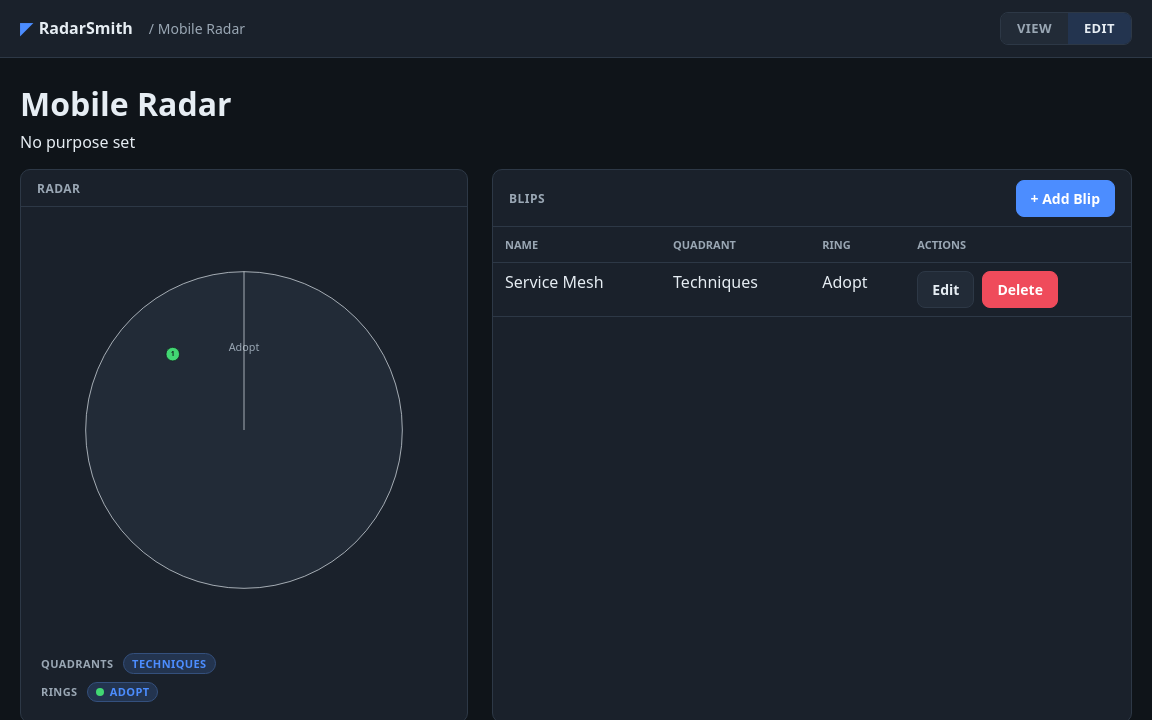
RadarWorkspace › preserves selection when resizing from wide to narrow
The image size is (1152, 720).
expect the cell "Service Mesh" is shown: met, box 493,262 -> 661,316
Click the button "Service Mesh": (554, 282) 505,270 -> 604,292
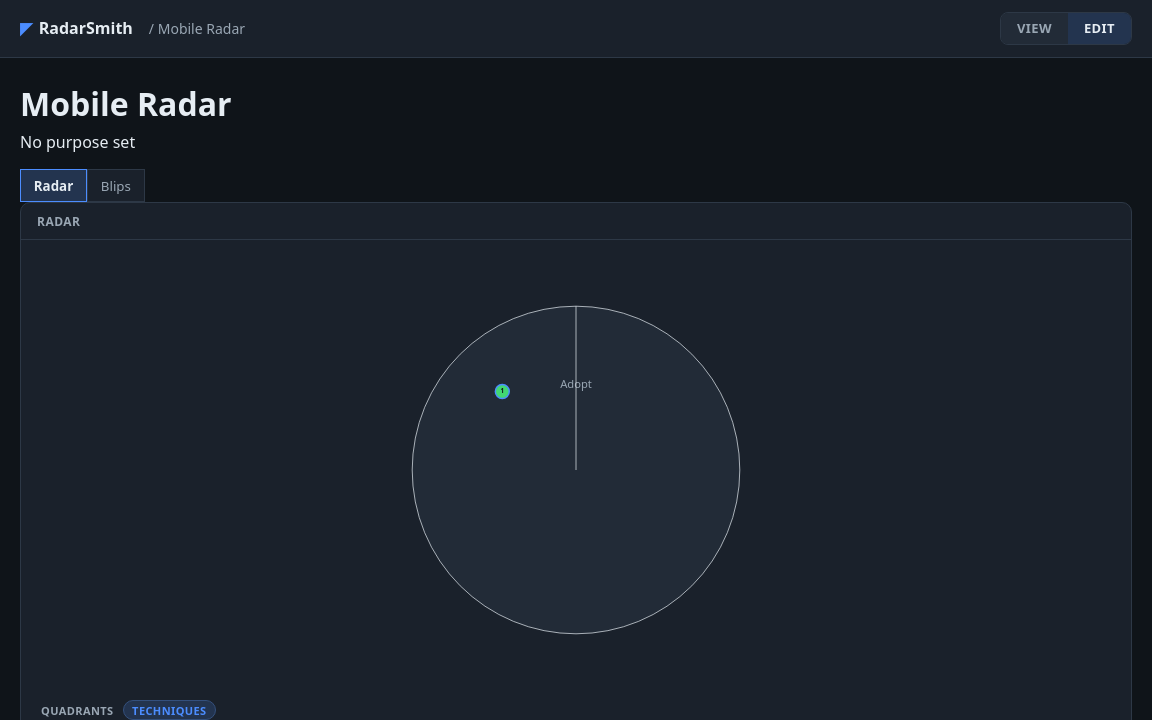
expect the element named "Workspace view" is shown: met, box 20,169 -> 145,202
